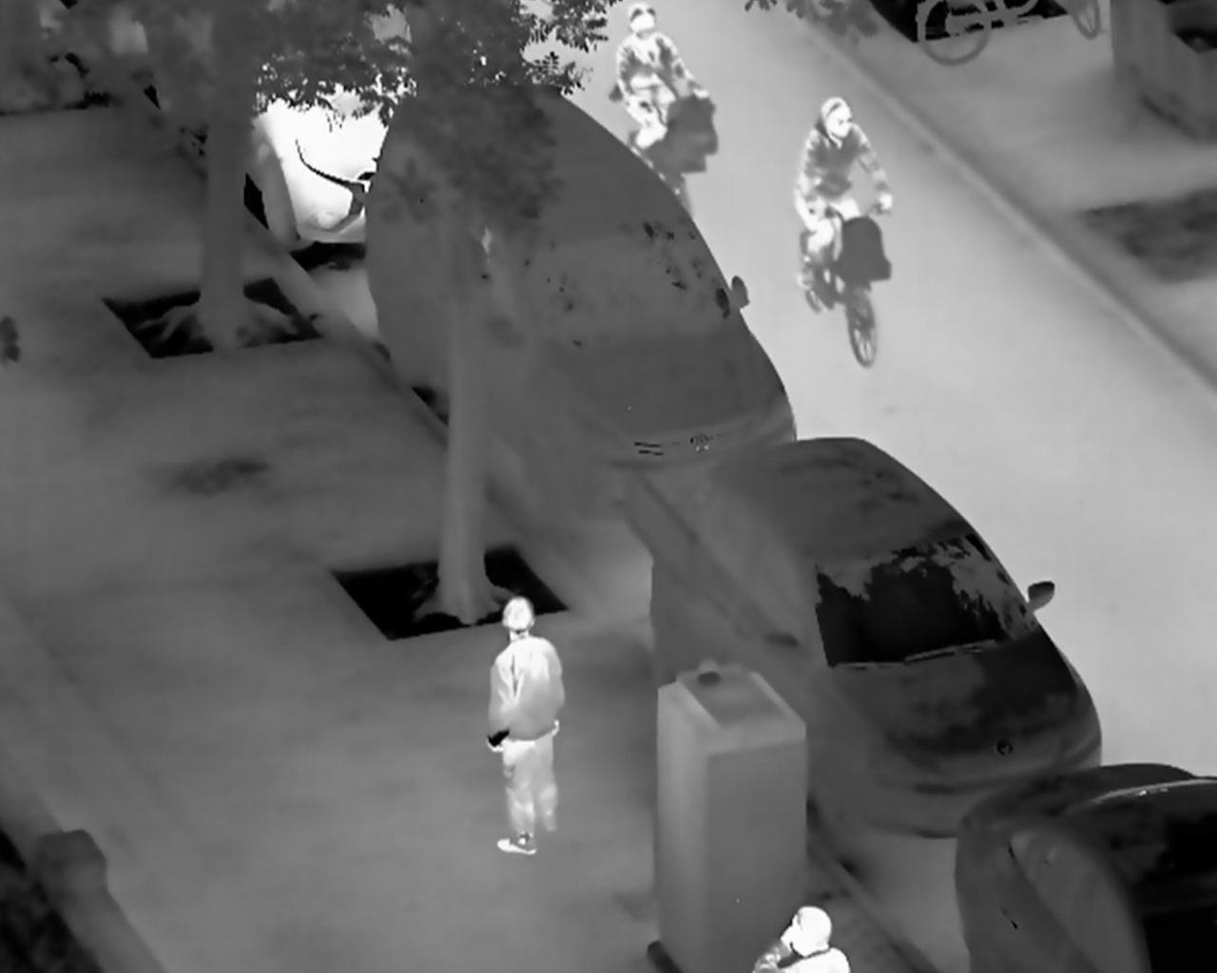person: (485, 596, 570, 863), (790, 96, 898, 294), (609, 2, 712, 158)
